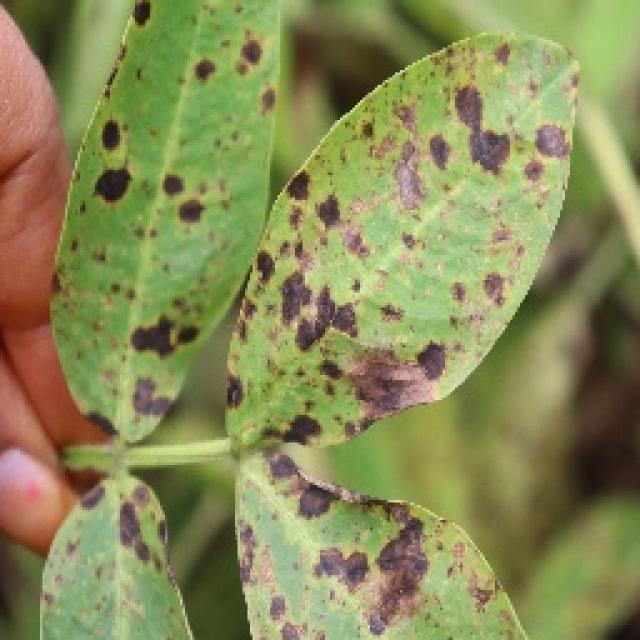Yellowish: (68, 0, 557, 640)
